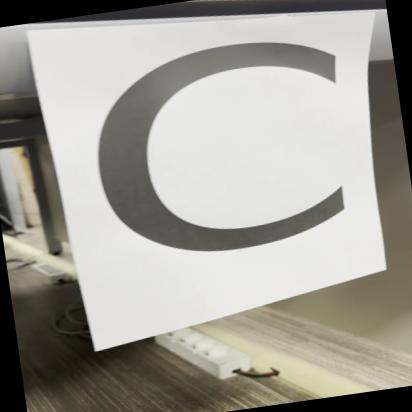seat: (35, 0, 387, 324)
